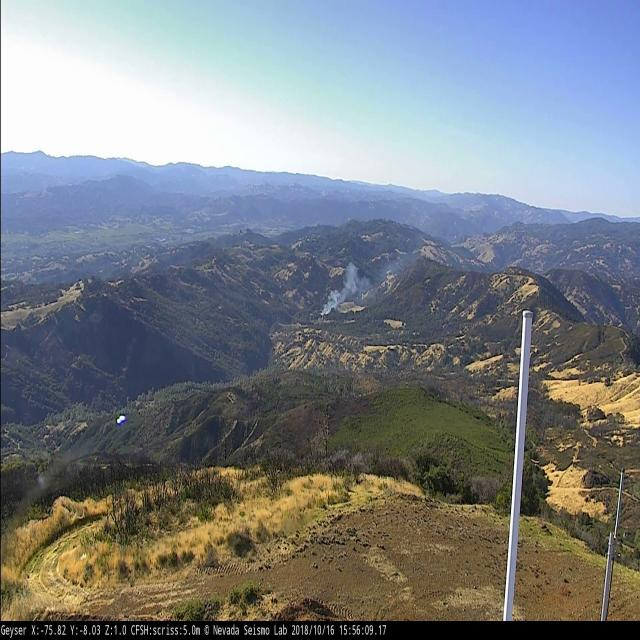smoke: (315, 233, 430, 313)
